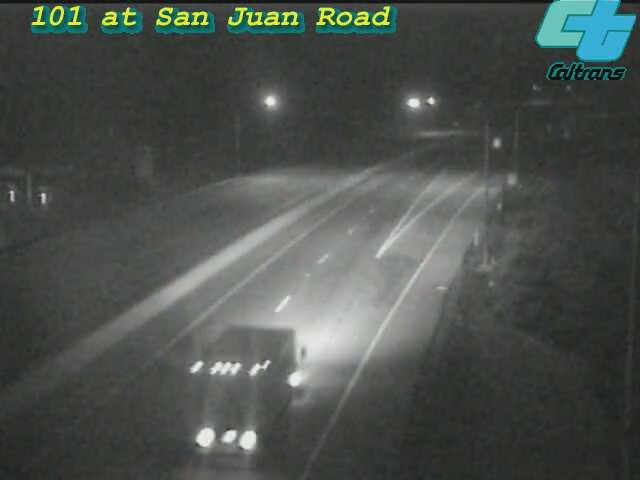vehicle: (181, 331, 291, 441)
